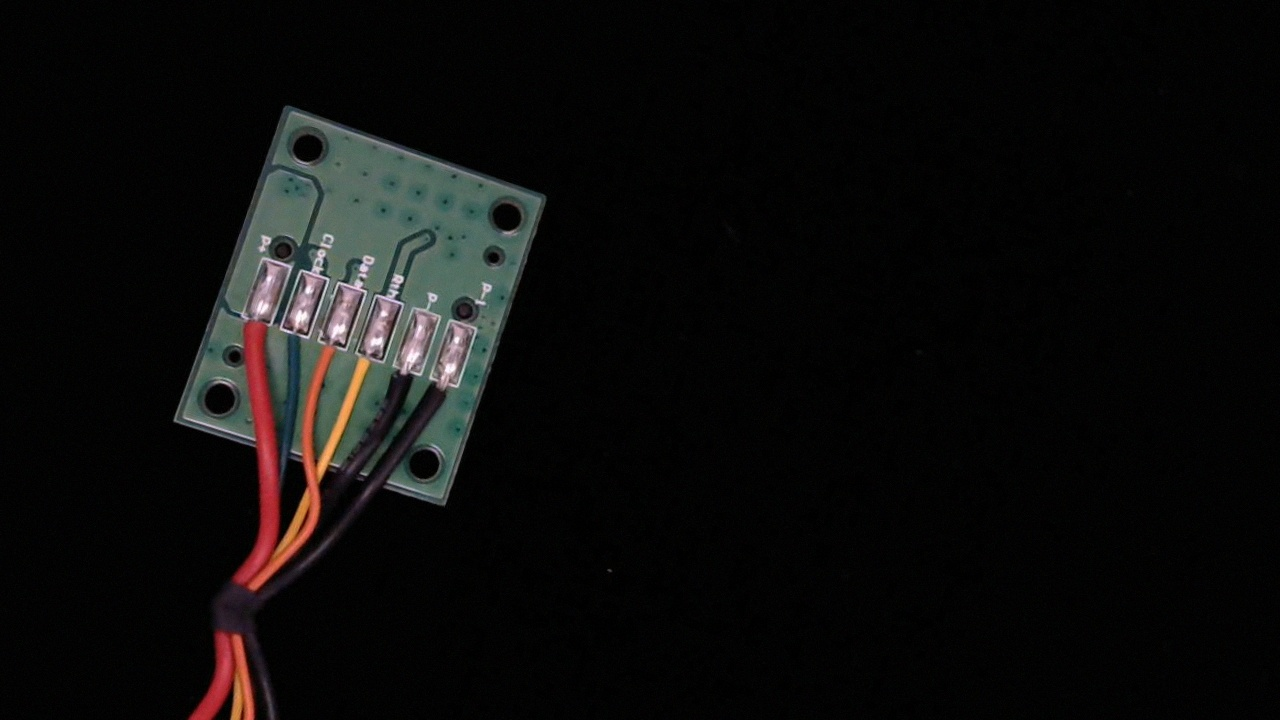Black: (376, 350, 425, 422)
Black1: (415, 361, 467, 434)
Green: (267, 309, 315, 378)
Orange: (300, 323, 352, 401)
Red: (229, 297, 277, 362)
Yellow: (336, 335, 391, 416)
